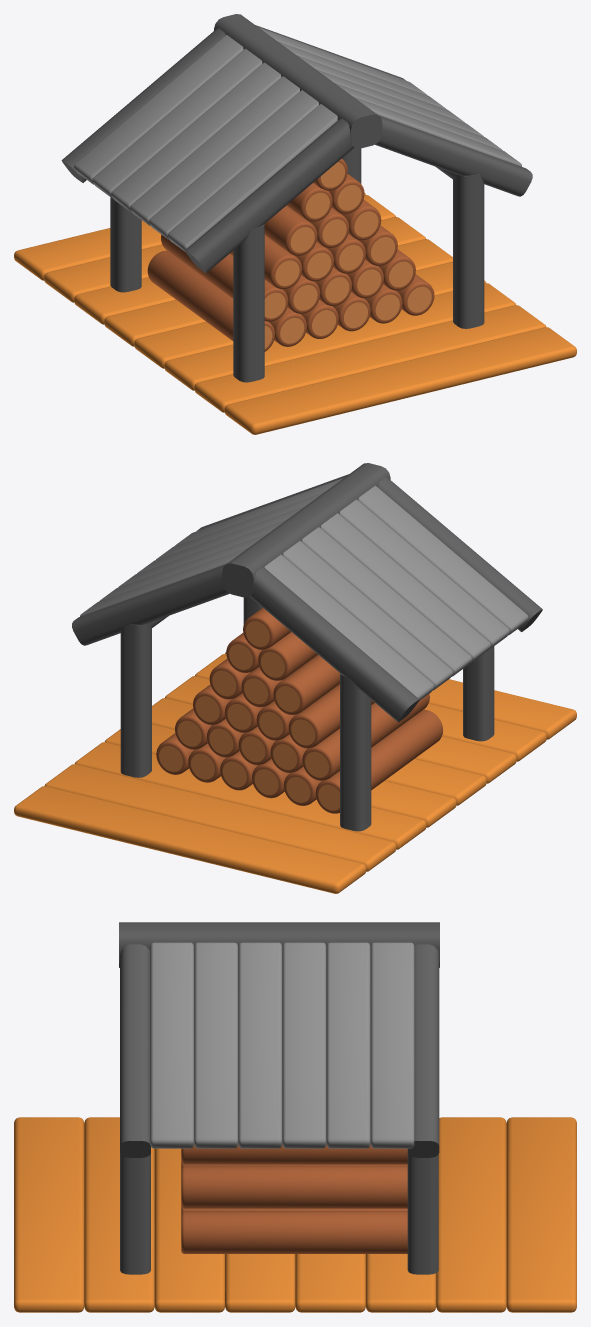
The model's file is wood storage.fbx.
3 views of the same model, one above another, from view 1: azimuth 30°, elevation 25°; view 2: azimuth 150°, elevation 25°; view 3: azimuth 270°, elevation 25° (orthographic). The views are drawn at different scales.
Visible parts, largest first — view 1: Cube.032, Cylinder.300; view 2: Cube.032, Cylinder.300; view 3: Cube.032, Cylinder.300.
Part boxes in pixels (box(x1,y1,x2,y2)): Cube.032: box(14, 14, 576, 434); Cylinder.300: box(147, 158, 434, 351); Cube.032: box(14, 463, 576, 893); Cylinder.300: box(156, 607, 443, 813); Cube.032: box(14, 922, 576, 1312); Cylinder.300: box(181, 1144, 407, 1253).
Size of the model in its own units: 14540 by 10187 by 17796.
